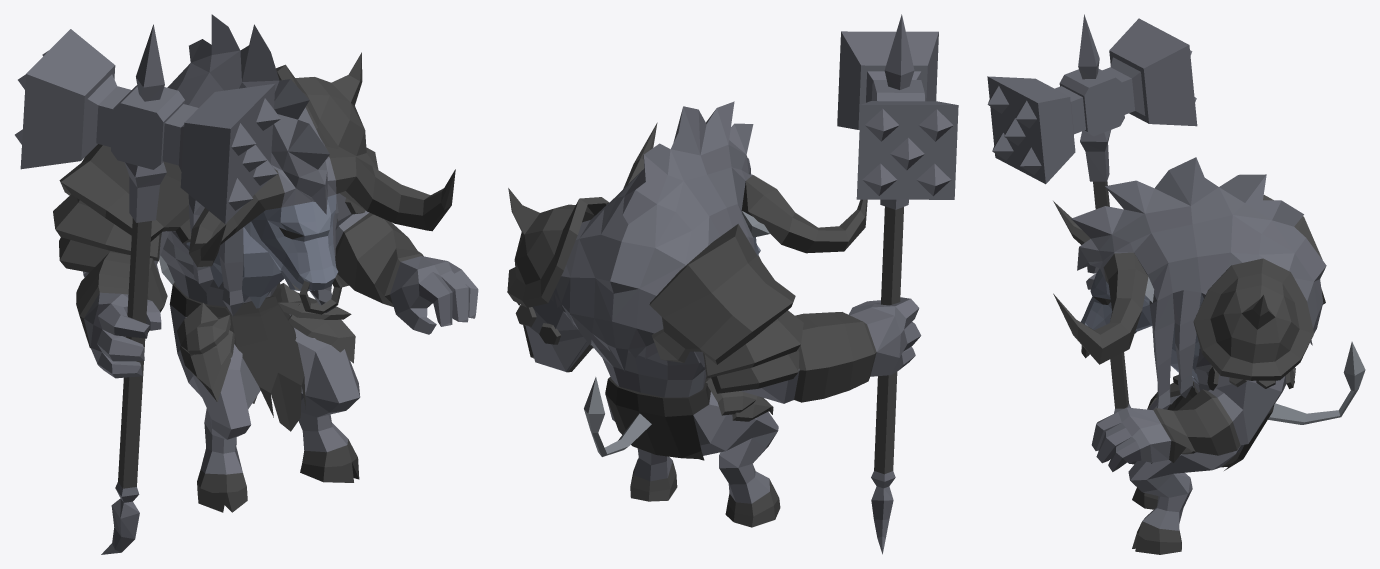
Rendered from Tau_boss_acc.FBX.
The picture shows the model from 3 angles, left to right: view 1: azimuth 30°, elevation 25°; view 2: azimuth 150°, elevation 25°; view 3: azimuth 270°, elevation 25°; orthographic projection. The views are drawn at different scales.
Parts seen in each view (by area): view 1: Tau_boss_acc; view 2: Tau_boss_acc; view 3: Tau_boss_acc.
Part boxes in pixels (x1,y1,x2,y2): Tau_boss_acc: [15, 14, 478, 554]; Tau_boss_acc: [507, 14, 958, 554]; Tau_boss_acc: [987, 14, 1365, 554].
Size of the model in its own units: 425 by 508 by 381.
